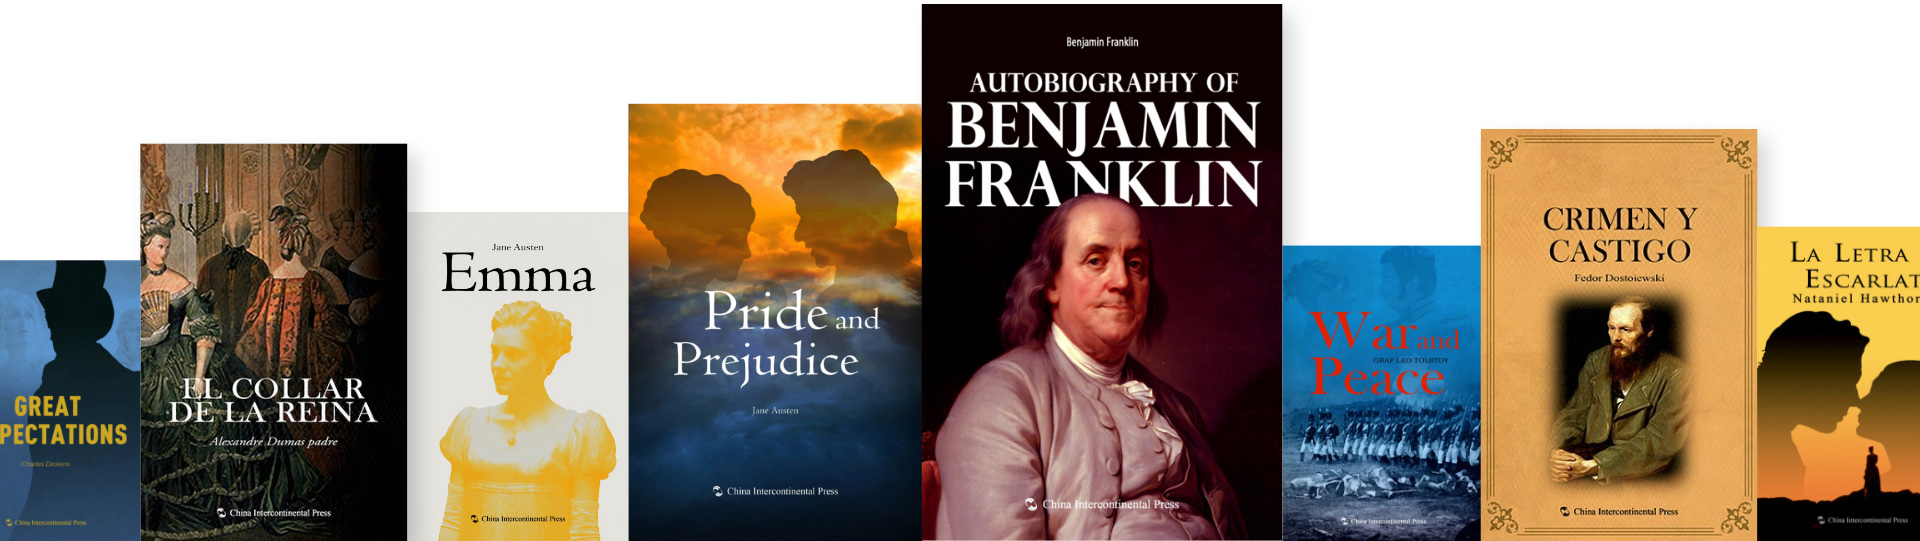buku: (909, 5, 1286, 541), (623, 100, 911, 541), (1473, 131, 1761, 541), (133, 138, 402, 541), (388, 218, 634, 540), (1283, 233, 1480, 541), (1764, 226, 1920, 541), (1, 255, 137, 541)
